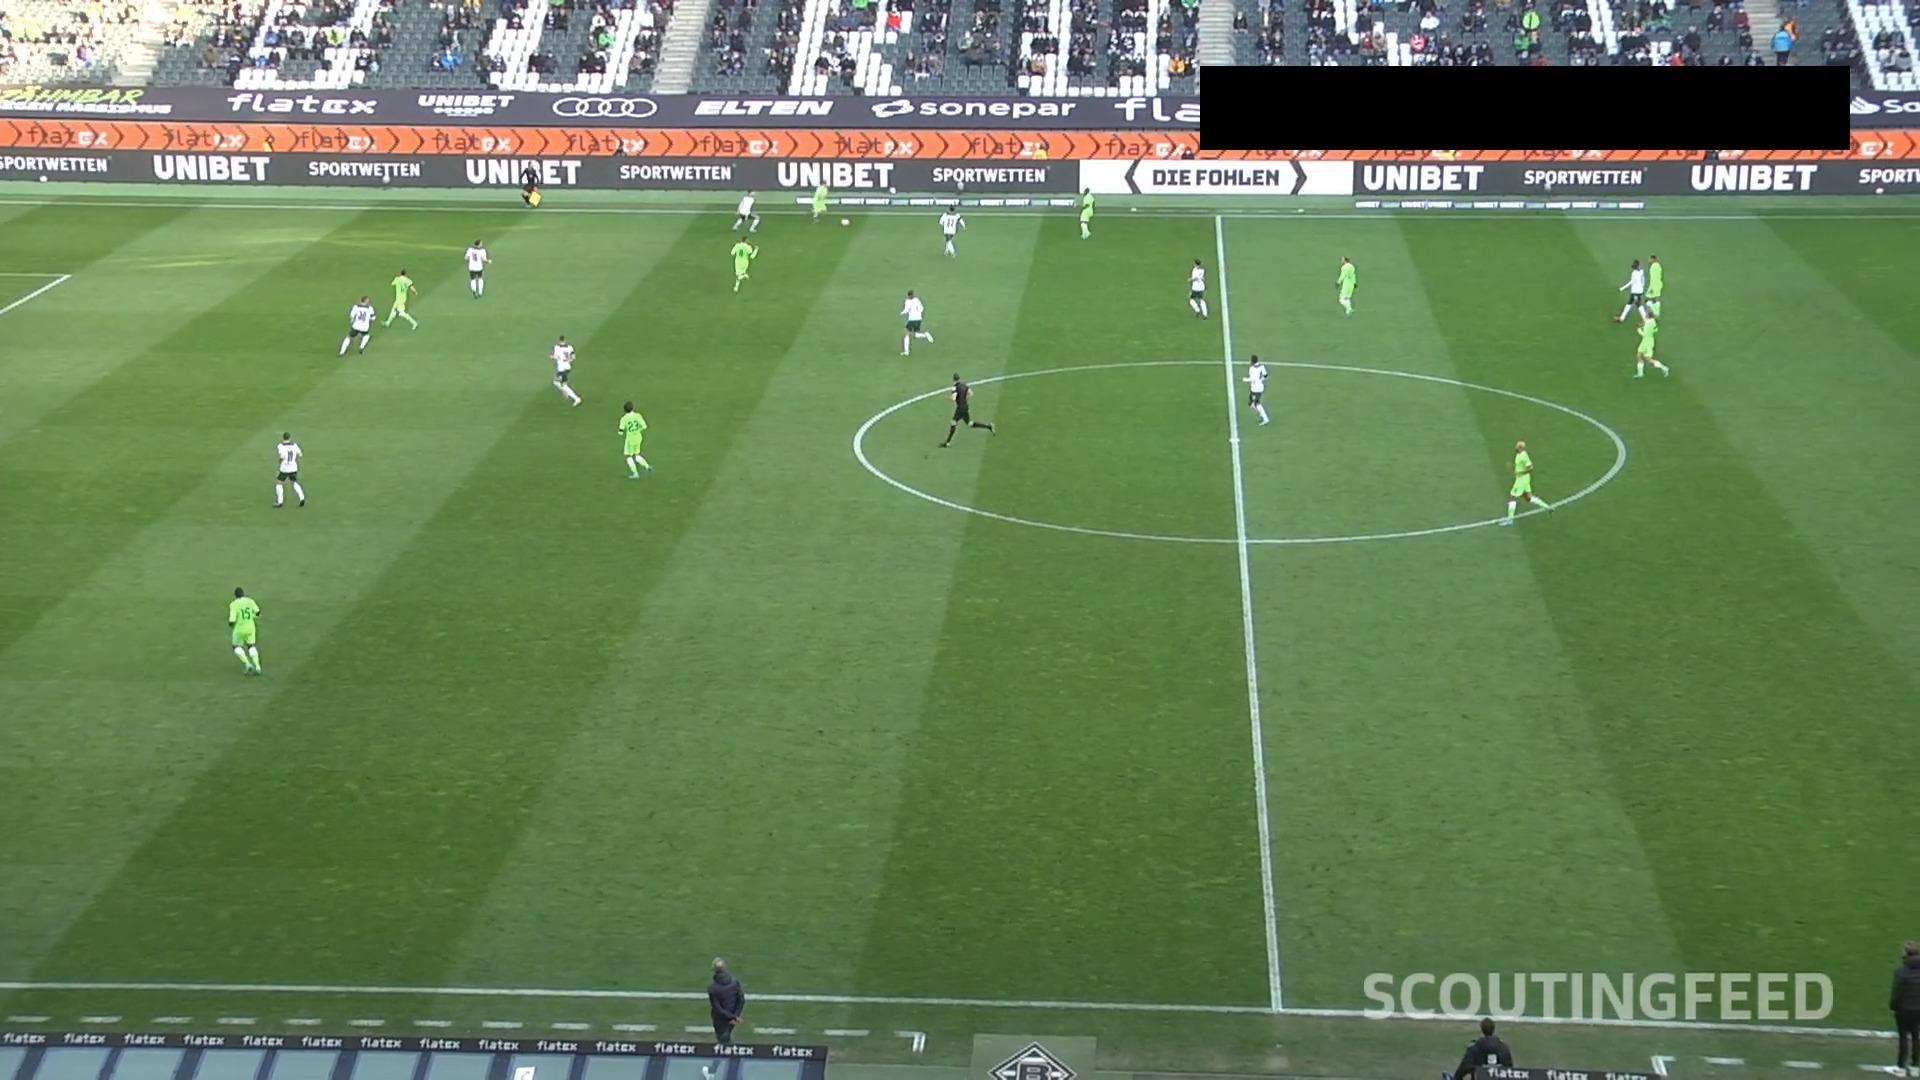ball: (839, 216, 853, 229)
coach: (1886, 938, 1919, 1074), (706, 956, 745, 1045)
player: (1501, 438, 1552, 524), (226, 585, 262, 675), (1632, 301, 1669, 378), (616, 400, 650, 479), (271, 431, 306, 507), (548, 333, 581, 407), (382, 267, 419, 330), (337, 294, 375, 355), (898, 288, 932, 356), (1241, 353, 1270, 425), (1614, 258, 1646, 323), (728, 235, 757, 293), (463, 238, 490, 298), (937, 204, 965, 257), (1642, 251, 1663, 318), (1186, 257, 1208, 319), (730, 188, 760, 233), (1334, 254, 1356, 315), (1076, 186, 1094, 238), (809, 179, 829, 222)
referee: (937, 372, 994, 447), (1450, 1017, 1513, 1078), (516, 158, 547, 217)
